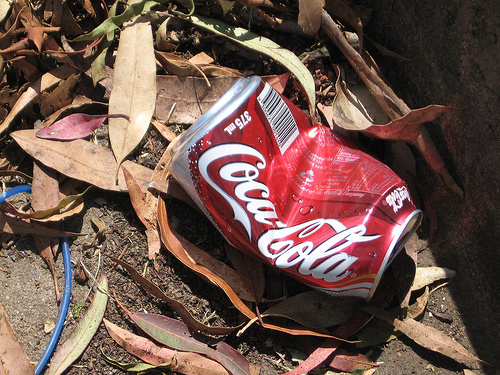litter: (167, 72, 424, 302)
